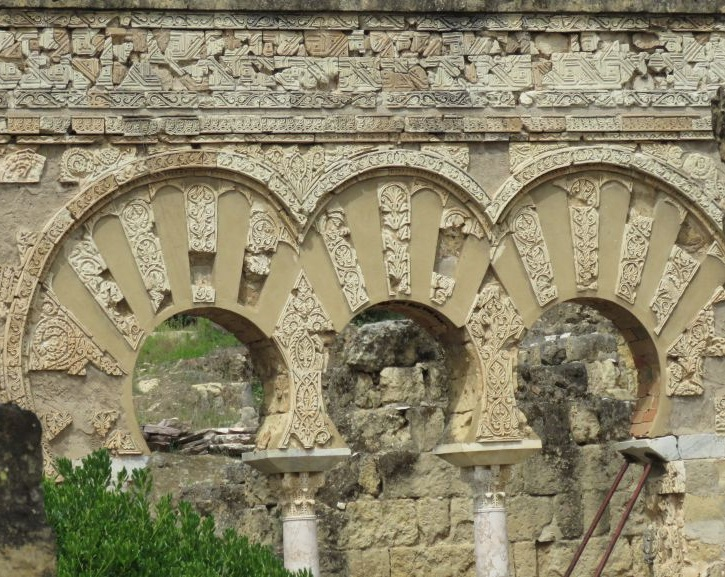arco-herradura: (306, 291, 492, 483), (112, 292, 295, 486), (493, 282, 678, 466)
